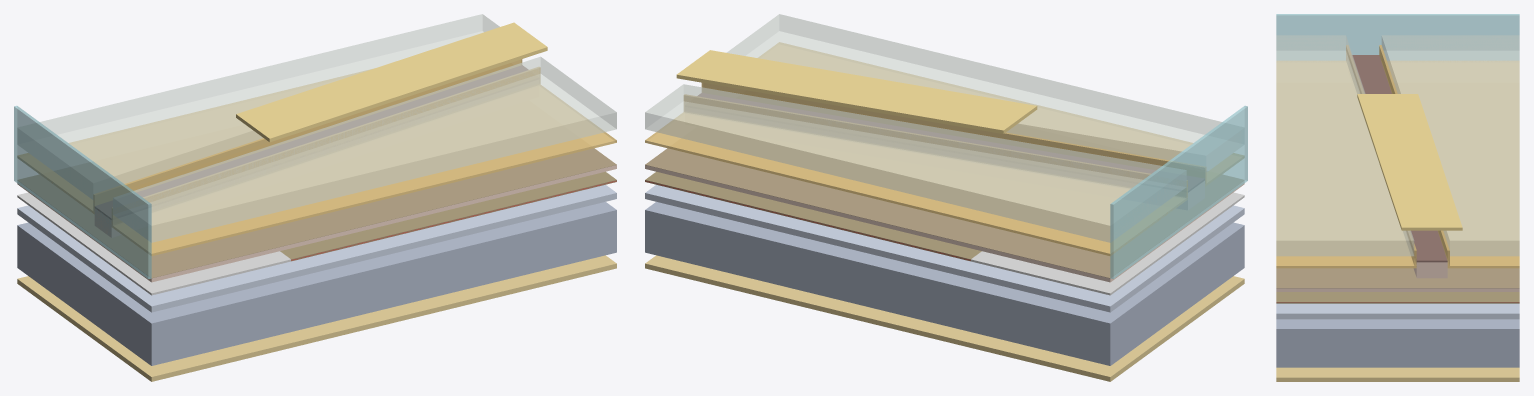
The model's file is stack-soa-x.glb.
3 views of the same model, side by side, from view 1: azimuth 30°, elevation 25°; view 2: azimuth 150°, elevation 25°; view 3: azimuth 270°, elevation 25° (orthographic). The views are drawn at different scales.
Visible parts, largest first — view 1: bcb, sin, sub, estop, pmetal, ar, ninp, nmetal, sch, window, pinp, cap; view 2: bcb, sin, sub, estop, pmetal, ar, ninp, nmetal, sch, window, pinp, cap; view 3: bcb, sin, sub, ar, pmetal, estop, ninp, nmetal, sch, cap, pinp, qw.
Boxes of the visible parts, left/top/right/bottom form: bcb: left=17, top=14, right=616, bottom=242; sin: left=17, top=59, right=616, bottom=256; sub: left=17, top=202, right=616, bottom=365; estop: left=18, top=148, right=616, bottom=278; pmetal: left=236, top=22, right=547, bottom=142; ar: left=14, top=105, right=151, bottom=278; ninp: left=17, top=184, right=616, bottom=312; nmetal: left=17, top=255, right=616, bottom=381; sch: left=280, top=171, right=616, bottom=261; window: left=17, top=192, right=290, bottom=295; pinp: left=17, top=165, right=616, bottom=282; cap: left=95, top=65, right=528, bottom=219; bcb: left=645, top=14, right=1244, bottom=242; sin: left=645, top=42, right=1244, bottom=256; sub: left=645, top=202, right=1244, bottom=365; estop: left=645, top=148, right=1243, bottom=278; pmetal: left=676, top=50, right=1037, bottom=133; ar: left=1110, top=105, right=1247, bottom=278; ninp: left=645, top=184, right=1244, bottom=312; nmetal: left=645, top=255, right=1244, bottom=381; sch: left=645, top=171, right=981, bottom=261; window: left=971, top=192, right=1244, bottom=295; pinp: left=645, top=165, right=1244, bottom=282; cap: left=698, top=93, right=1204, bottom=192; bcb: left=1276, top=35, right=1519, bottom=256; sin: left=1276, top=45, right=1519, bottom=268; sub: left=1276, top=319, right=1519, bottom=367; ar: left=1276, top=14, right=1519, bottom=60; pmetal: left=1357, top=94, right=1462, bottom=230; estop: left=1276, top=268, right=1519, bottom=288; ninp: left=1276, top=303, right=1519, bottom=319; nmetal: left=1276, top=367, right=1519, bottom=381; sch: left=1276, top=292, right=1519, bottom=303; cap: left=1352, top=55, right=1447, bottom=262; pinp: left=1276, top=259, right=1519, bottom=291; qw: left=1276, top=302, right=1519, bottom=302.
Size of the model in its own units: 40.27 by 14.62 by 20.
